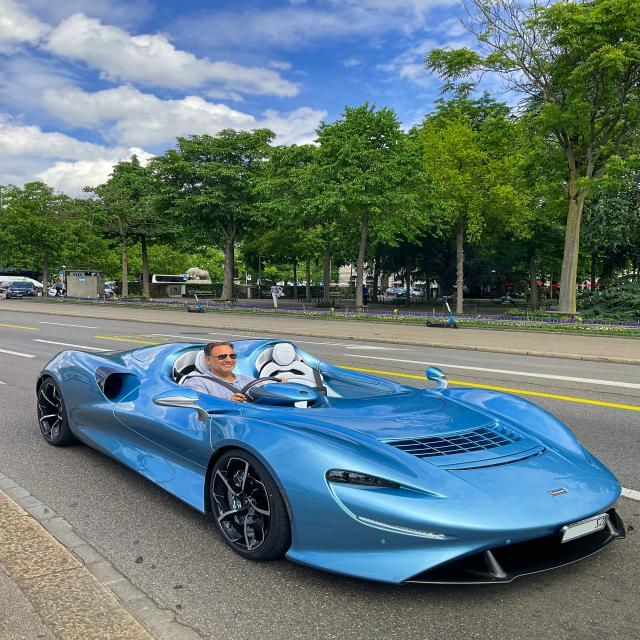adult: (183, 342, 289, 402)
